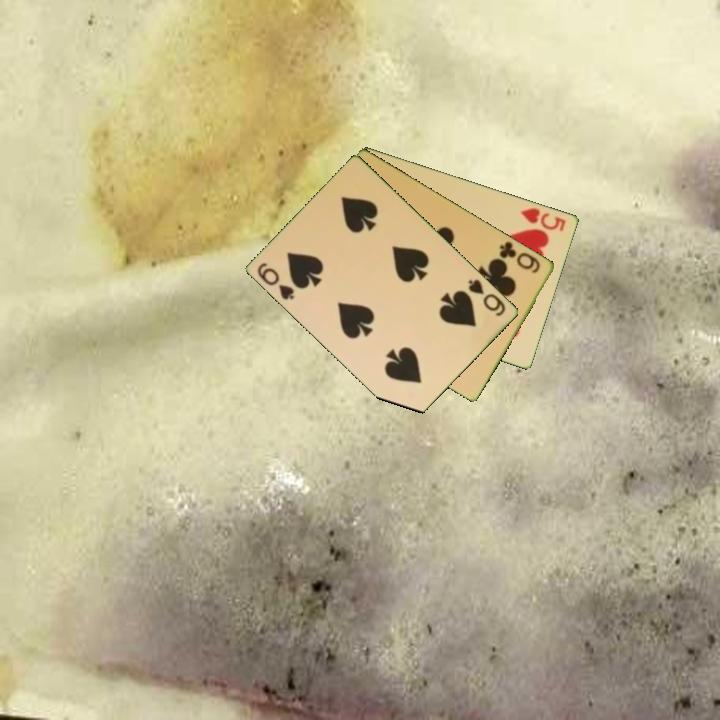5h: (518, 204, 569, 234)
6c: (496, 237, 544, 276)
6s: (465, 276, 509, 319), (254, 259, 297, 303)
